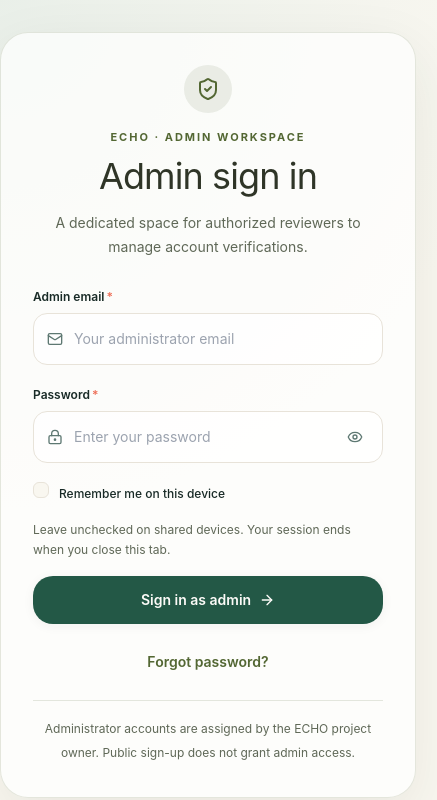
Dedicated admin sign in › fails closed on network errors and offers a retry
The image size is (437, 800).
Type "reviewer@example.invalid" into the field labelled "Admin email*".
click(208, 338); type("reviewer@example.invalid")  # box [33,312,383,364]
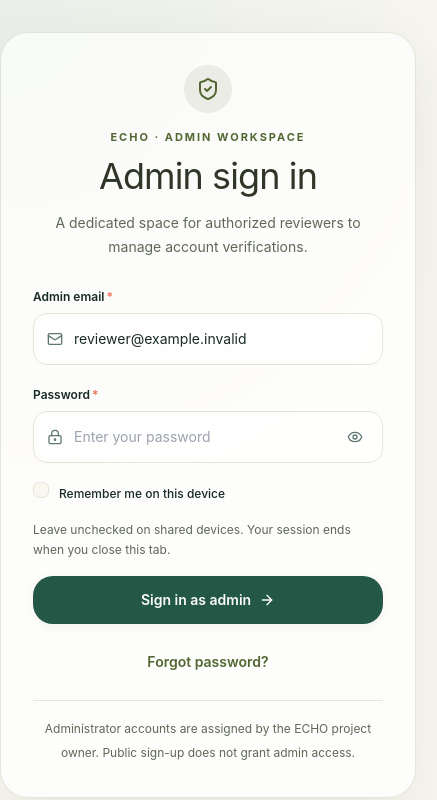
Type "test-only-password" into the password field labelled "Password*".
click(208, 436); type("test-only-password")  # box [33,410,383,462]
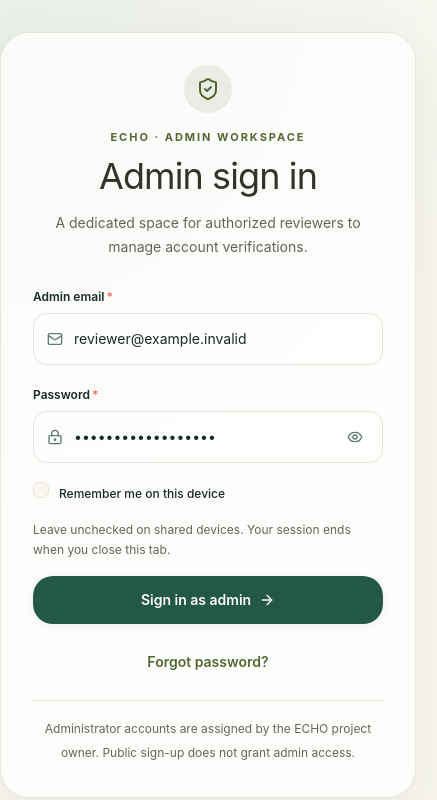
Click the button "Sign in as admin".
click(208, 600)  # box [33,576,383,624]
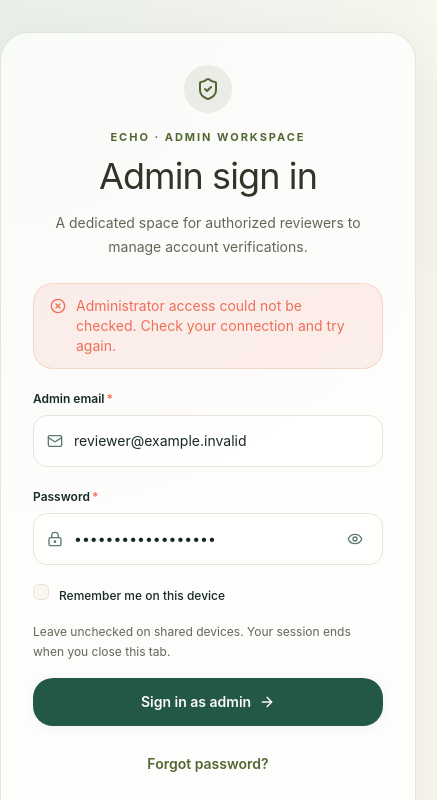
Expected: the button "Sign in as admin" is enabled, [33,678,383,726]
Expected: the message shows "Administrator access could not be checked", [76,296,344,354]
